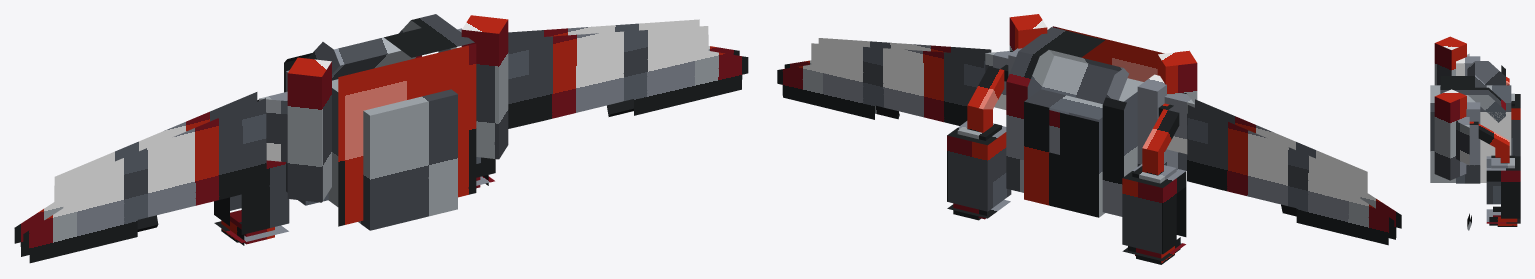
Rendered from jetpack.obj.
3 views of the same model, side by side, from view 1: azimuth 30°, elevation 25°; view 2: azimuth 150°, elevation 25°; view 3: azimuth 270°, elevation 25° (orthographic). The views are drawn at different scales.
Visible parts, largest first — view 1: jetpack5; view 2: jetpack5, jetpack_glow; view 3: jetpack5, jetpack_glow.
Boxes of the visible parts, <box> form: jetpack5: <box>14,14,748,263</box>; jetpack5: <box>777,14,1401,264</box>; jetpack_glow: <box>967,64,1179,175</box>; jetpack5: <box>1430,36,1520,230</box>; jetpack_glow: <box>1469,77,1509,163</box>.
Size of the model in its own units: 37.27 by 9.57 by 6.51.
